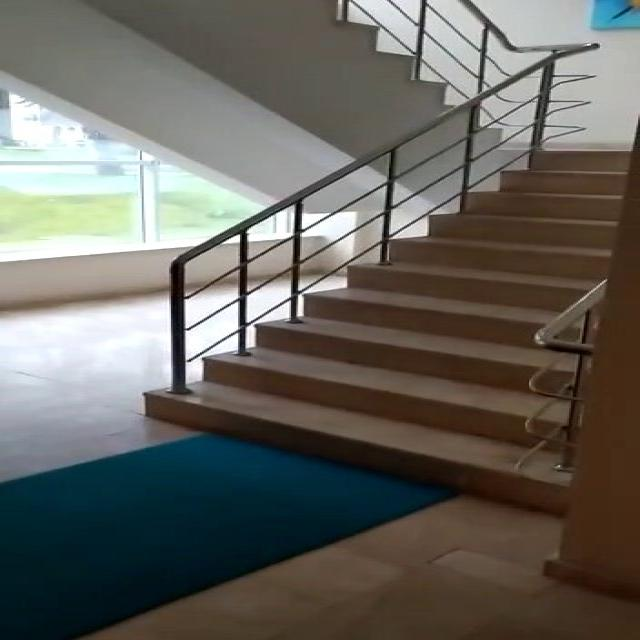upstair: (269, 55, 581, 488)
